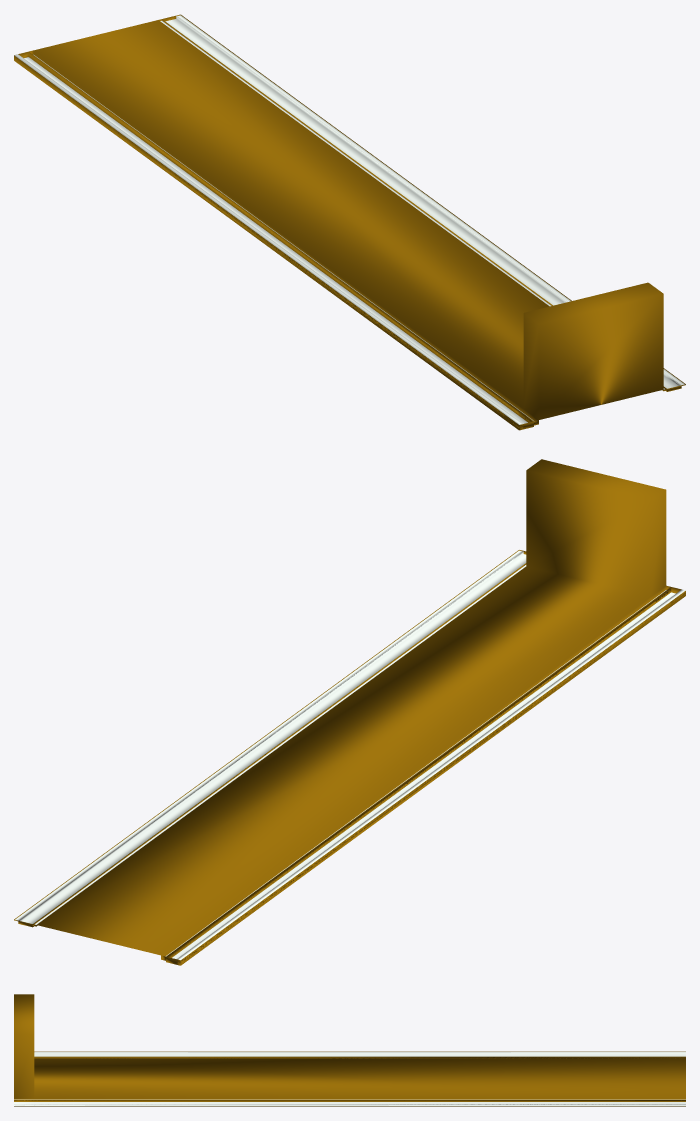
File: pista.glb
3 views of the same model, one above another, from view 1: azimuth 30°, elevation 25°; view 2: azimuth 150°, elevation 25°; view 3: azimuth 270°, elevation 25° (orthographic). The views are drawn at different scales.
Visible parts, largest first — view 1: Plane; view 2: Plane; view 3: Plane.
Part boxes in pixels (x1,y1,x2,y2): Plane: (14, 14, 685, 430); Plane: (14, 459, 685, 965); Plane: (14, 994, 685, 1106).
Size of the model in its own units: 3.08 by 1.79 by 16.17.
